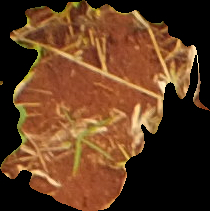soil: (1, 1, 209, 210)
